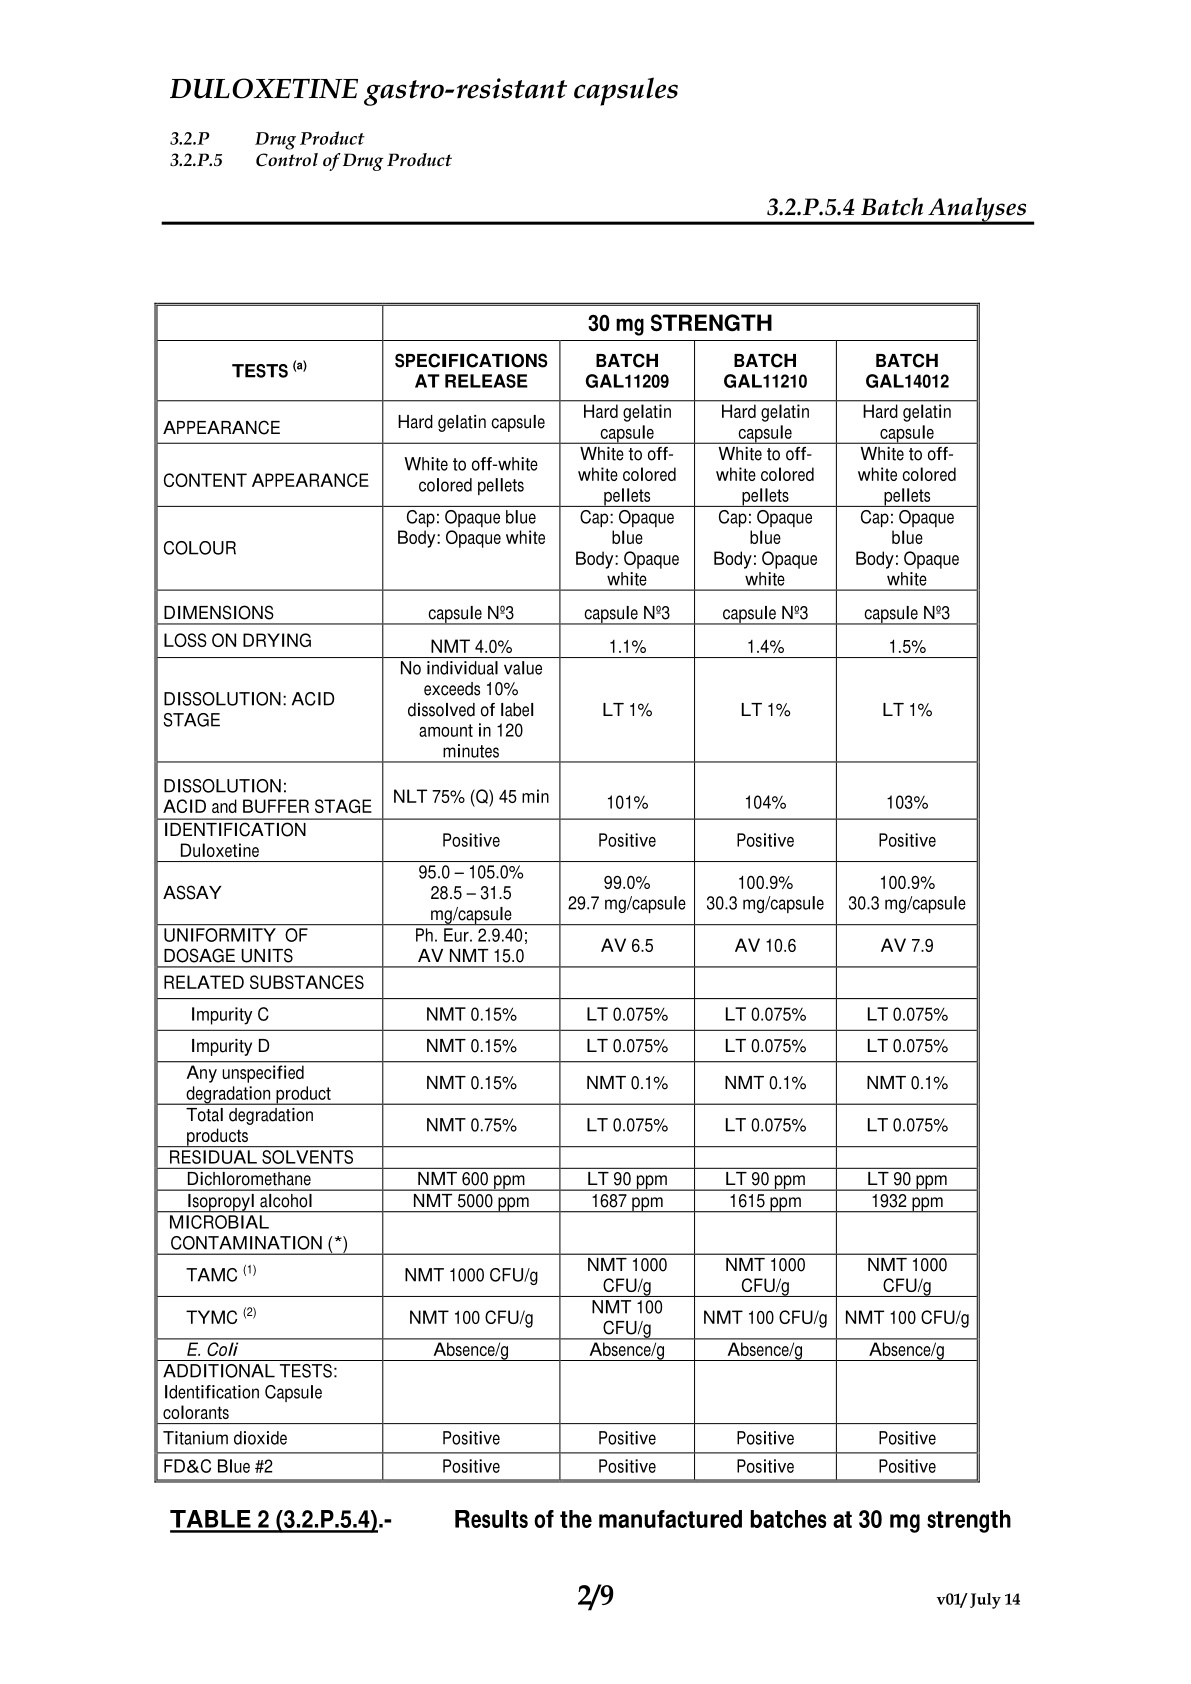merged_cells: (153, 301, 981, 1484)
